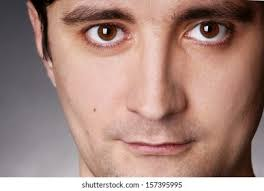e.brown: (96, 24, 118, 43)
